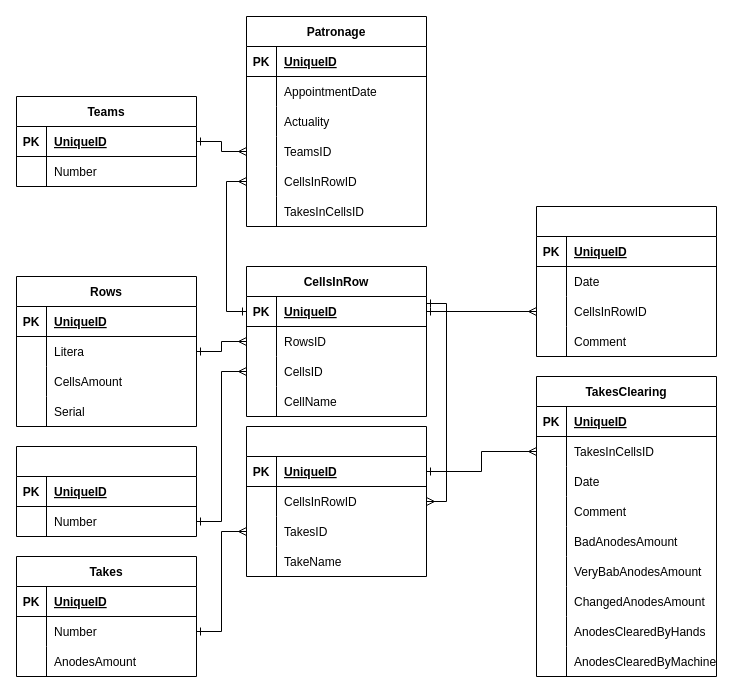
The diagram is 733 pixels wide and 693 high, and some of its shapes have lost their labels. The shapes that lost their labels are listed below. From the top down, each one's box as (x1, y1, x2, y2) in pixels, then its label:
(536, 206, 716, 356): CellsClearing
(16, 446, 196, 536): Cells
(246, 426, 426, 576): TakesInCells
